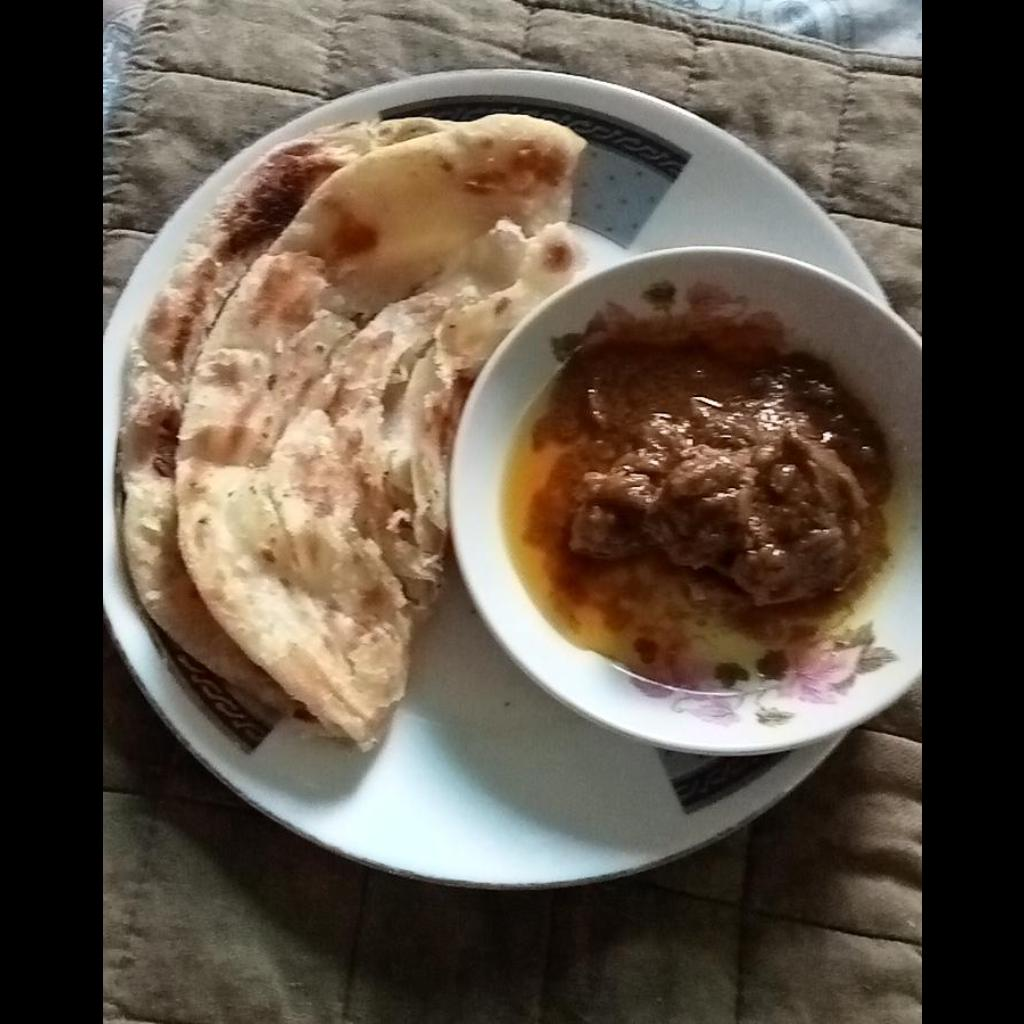chicken: (562, 351, 894, 604)
ruti: (121, 111, 590, 756)
